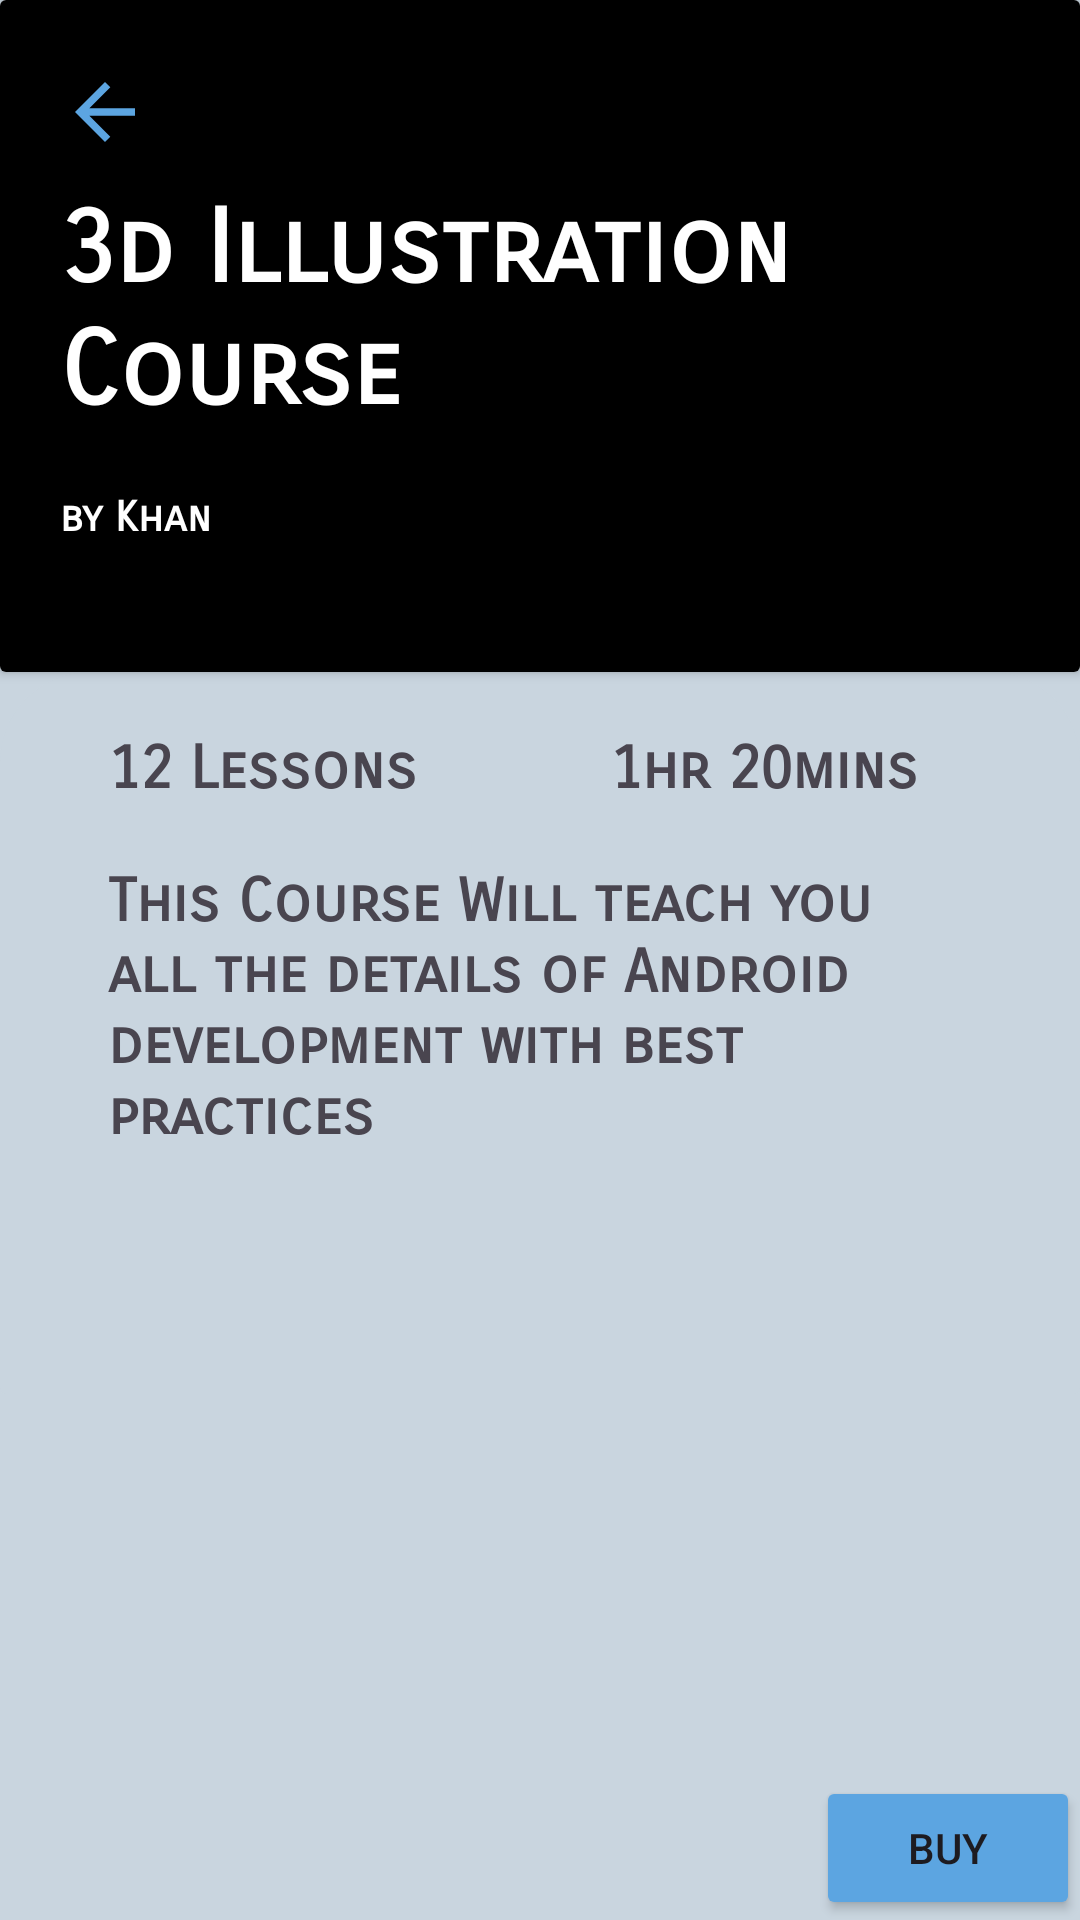

Screen size 1080w x 1920h. Icon name, then its box in pixels as (x1, y1, x2, y2):
back: (75, 82, 135, 142)
